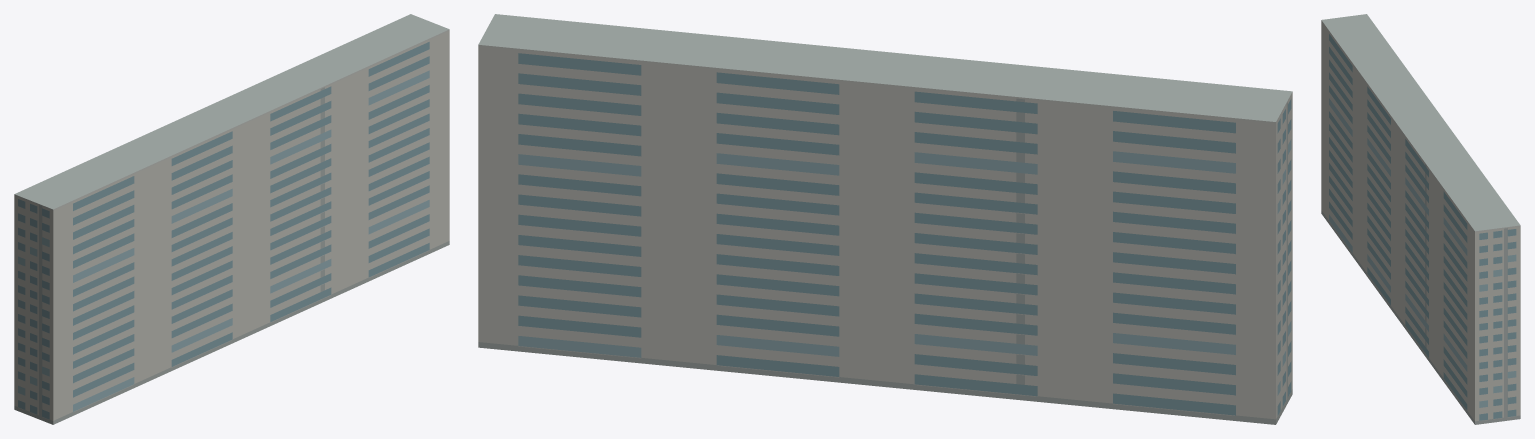
The model's file is residential-b075a703-7268-457f-81b9-750f4e7ffa25.glb.
The picture shows the model from 3 angles, left to right: view 1: azimuth 30°, elevation 25°; view 2: azimuth 150°, elevation 25°; view 3: azimuth 270°, elevation 25°; orthographic projection. The views are drawn at different scales.
Visible parts, largest first — view 1: residential-b075a703-7268-457f-81b9-750f4e7ffa25.tmp; view 2: residential-b075a703-7268-457f-81b9-750f4e7ffa25.tmp; view 3: residential-b075a703-7268-457f-81b9-750f4e7ffa25.tmp.
Part boxes in pixels (bbox=[...]): residential-b075a703-7268-457f-81b9-750f4e7ffa25.tmp: bbox=[14, 14, 449, 424]; residential-b075a703-7268-457f-81b9-750f4e7ffa25.tmp: bbox=[478, 14, 1292, 424]; residential-b075a703-7268-457f-81b9-750f4e7ffa25.tmp: bbox=[1321, 14, 1520, 424].
Bounding box in the file's own units: 110 × 45.75 × 42.69.
